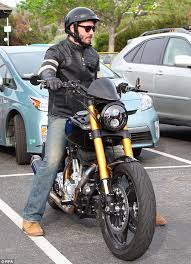helmet: (62, 5, 99, 48)
